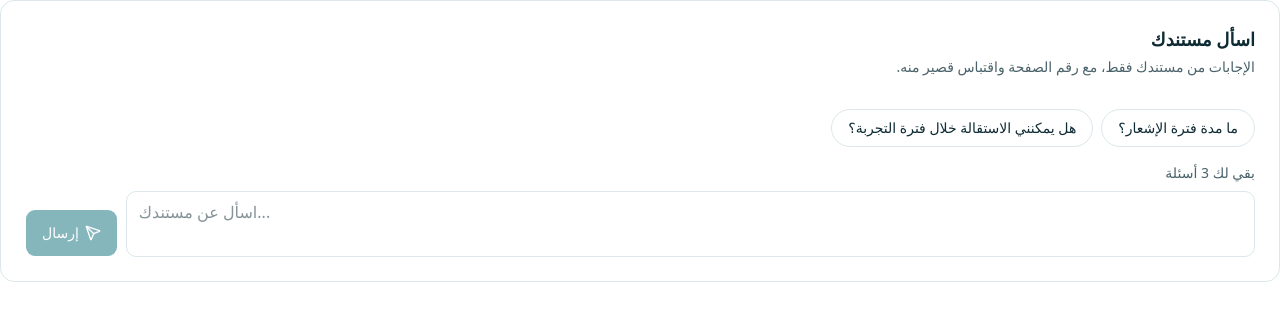
Test: shows ai_budget_reached in the chat and keeps the question in the box
Type "ما مدة الإشعار؟" into the text box named "سؤالك" at x=690, y=224, box [126,191,1255,257]
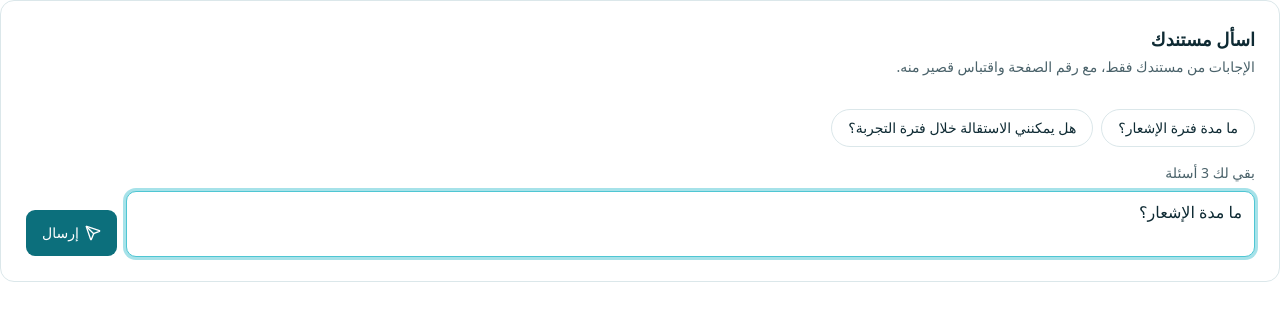
Click the button "إرسال" at x=71, y=233, box [25,209,118,257]
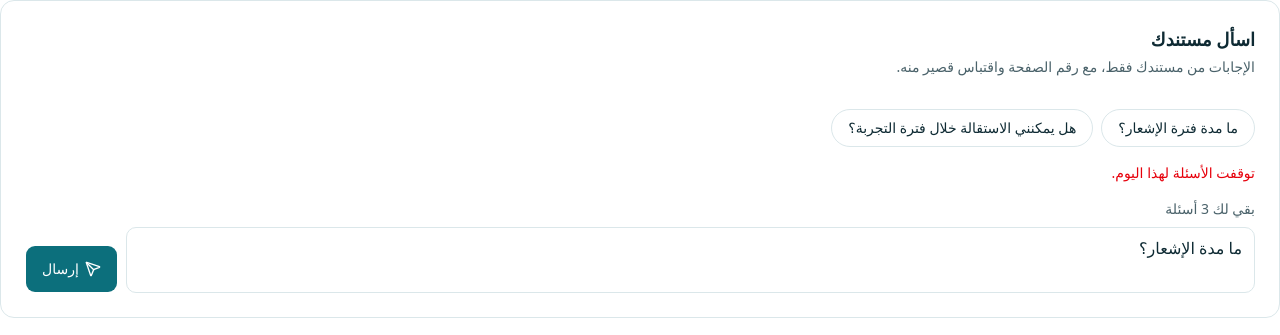
Check: the text "بقي لك 3 أسئلة" is shown, box [1165,199,1255,218]
Check: the message reads "توقفت الأسئلة لهذا اليوم.", box [1112,163,1255,182]
